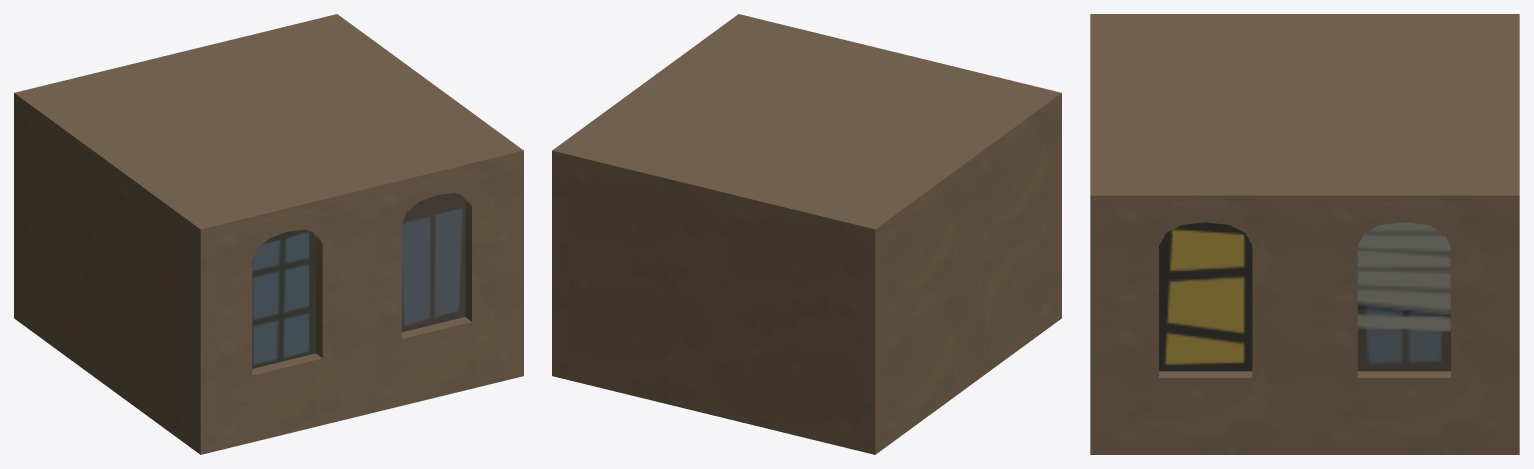
Rendered from Bock_F4.fbx.
The picture shows the model from 3 angles, left to right: view 1: azimuth 30°, elevation 25°; view 2: azimuth 150°, elevation 25°; view 3: azimuth 270°, elevation 25°; orthographic projection. The views are drawn at different scales.
Visible parts, largest first — view 1: Bock_F4; view 2: Bock_F4; view 3: Bock_F4.
Boxes of the visible parts, box(x1,y1,x2,y2) form: Bock_F4: box(14, 14, 523, 454); Bock_F4: box(552, 14, 1061, 454); Bock_F4: box(1090, 14, 1519, 454).
Bounding box in the file's own units: 600 × 400 × 600.
